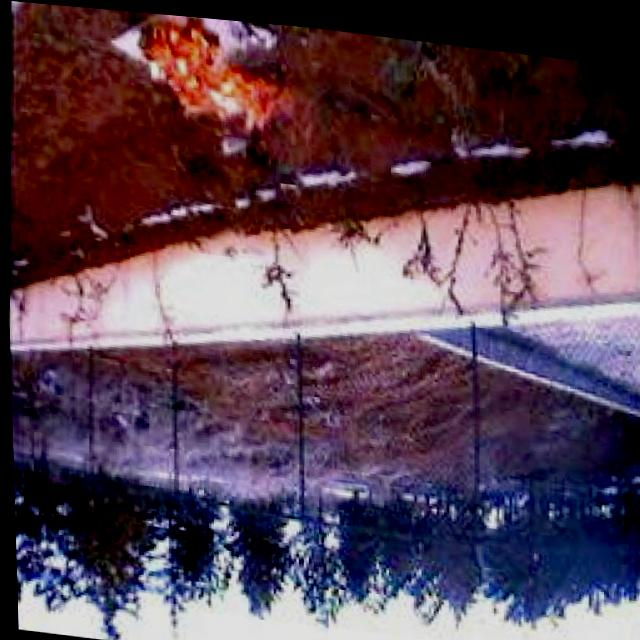helmet: (125, 9, 311, 138)
